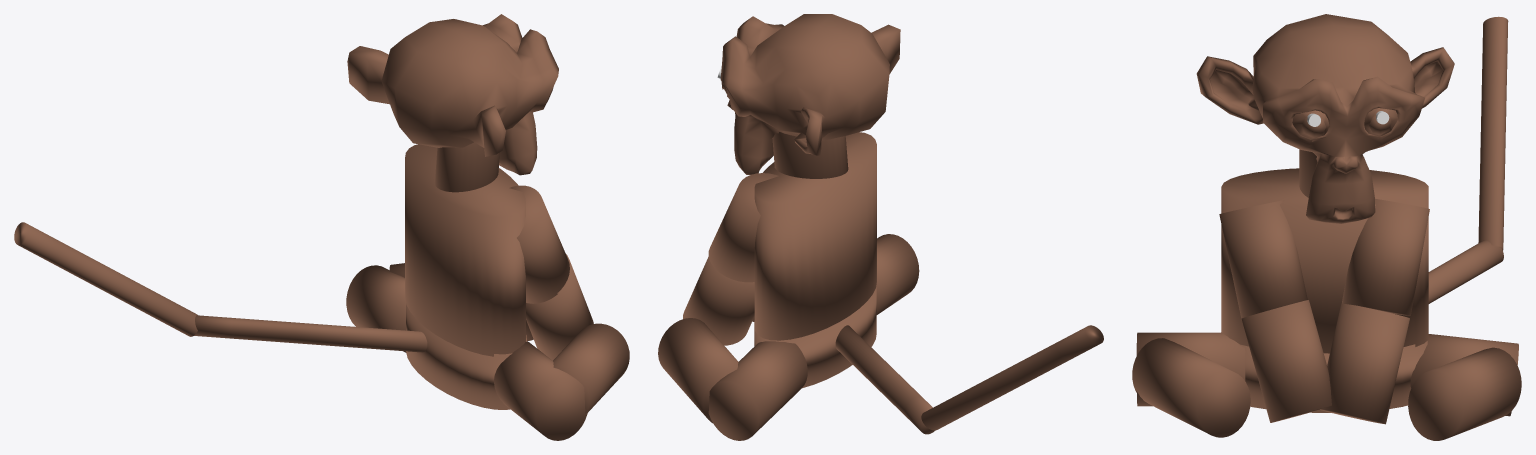
The model's file is animaru monky.fbx.
3 renders of one model, left to right at view 1: azimuth 30°, elevation 25°; view 2: azimuth 150°, elevation 25°; view 3: azimuth 270°, elevation 25°, orthographic. The views are drawn at different scales.
Parts seen in each view (by area): view 1: モンキー, 円柱.008, 円柱.014, 円柱.011, 円柱.007, 円柱.001, 円柱.012, 円柱.009, 円柱.004, 円柱.002; view 2: モンキー, 円柱.008, 円柱.014, 円柱.009, 円柱.010, 円柱.006, 円柱.005, 円柱.007, 円柱.002, 円柱.011; view 3: モンキー, 円柱.008, 円柱.014, 円柱.012, 円柱.004, 円柱.006, 円柱.010, 円柱.005, 円柱.001, 円柱.011, 円柱.009, 円柱.007 (+1 smaller).
Part boxes in pixels (x1,y1,x2,y2): モンキー: [347, 14, 558, 175]; 円柱.008: [405, 144, 525, 356]; 円柱.014: [14, 222, 427, 352]; 円柱.011: [493, 341, 587, 440]; 円柱.007: [406, 304, 526, 409]; 円柱.001: [509, 185, 569, 303]; 円柱.012: [553, 323, 629, 413]; 円柱.009: [346, 265, 406, 352]; 円柱.004: [526, 254, 593, 360]; 円柱.002: [435, 142, 499, 192]; モンキー: [720, 14, 900, 174]; 円柱.008: [754, 132, 876, 340]; 円柱.014: [835, 325, 1103, 434]; 円柱.009: [708, 341, 807, 440]; 円柱.010: [658, 318, 738, 423]; 円柱.006: [683, 257, 754, 345]; 円柱.005: [708, 173, 778, 282]; 円柱.007: [754, 285, 876, 388]; 円柱.002: [772, 132, 848, 178]; 円柱.011: [876, 234, 919, 314]; モンキー: [1196, 14, 1454, 223]; 円柱.008: [1221, 168, 1428, 353]; 円柱.014: [1428, 16, 1508, 303]; 円柱.012: [1132, 338, 1250, 437]; 円柱.004: [1241, 300, 1331, 422]; 円柱.006: [1320, 303, 1409, 424]; 円柱.010: [1408, 347, 1521, 440]; 円柱.005: [1342, 198, 1429, 315]; 円柱.001: [1219, 200, 1307, 319]; 円柱.011: [1136, 332, 1245, 406]; 円柱.009: [1410, 334, 1518, 416]; 円柱.007: [1239, 341, 1427, 412].
Size of the model in its own units: 258 by 184 by 168.
